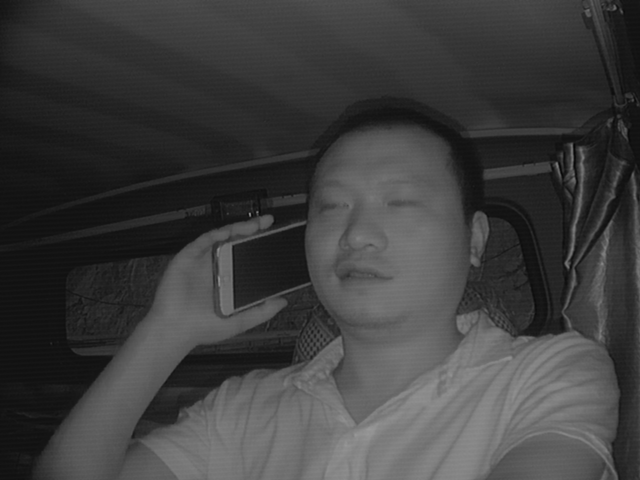hand: (166, 212, 266, 342)
